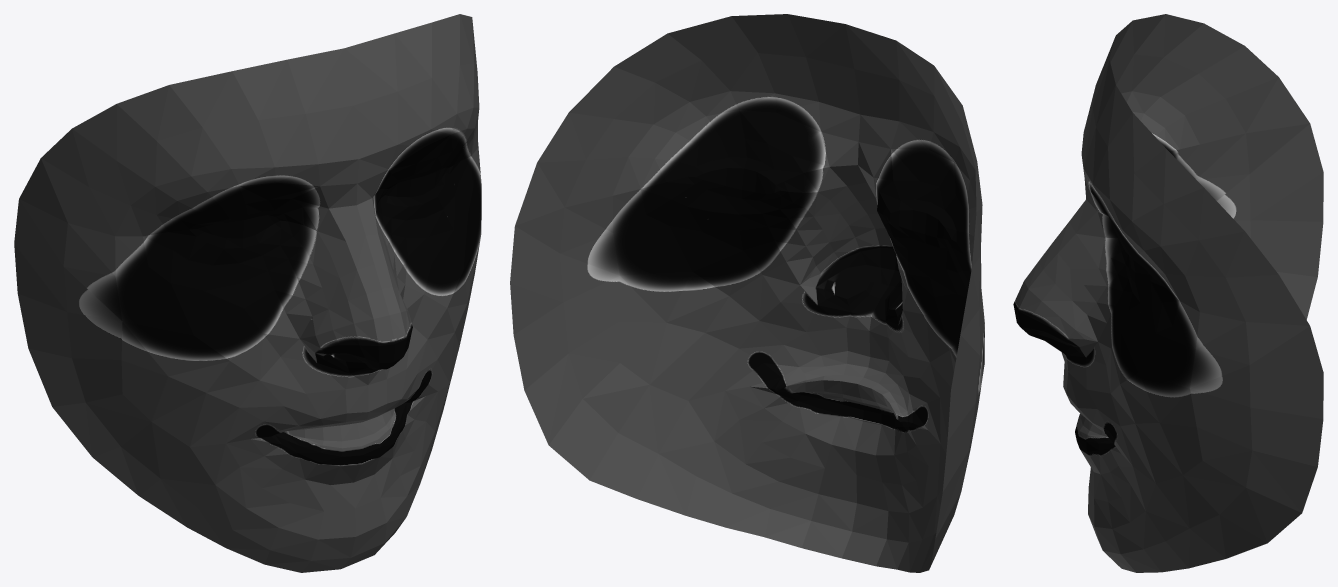
The picture shows the model from 3 angles, left to right: view 1: azimuth 30°, elevation 25°; view 2: azimuth 150°, elevation 25°; view 3: azimuth 270°, elevation 25°; orthographic projection. The views are drawn at different scales.
Parts seen in each view (by area): view 1: face_base; view 2: face_base; view 3: face_base.
Part boxes in pixels (bbox=[...]): face_base: bbox=[14, 14, 481, 572]; face_base: bbox=[510, 14, 984, 572]; face_base: bbox=[1013, 14, 1323, 572].
Size of the model in its own units: 15.49 by 17.67 by 10.02.
Materials: 1 (1 with a texture image).
